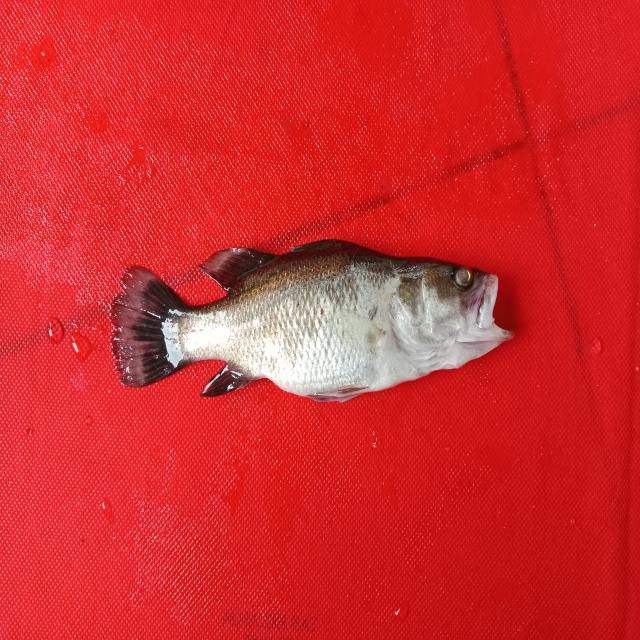ikan: (76, 206, 551, 422)
